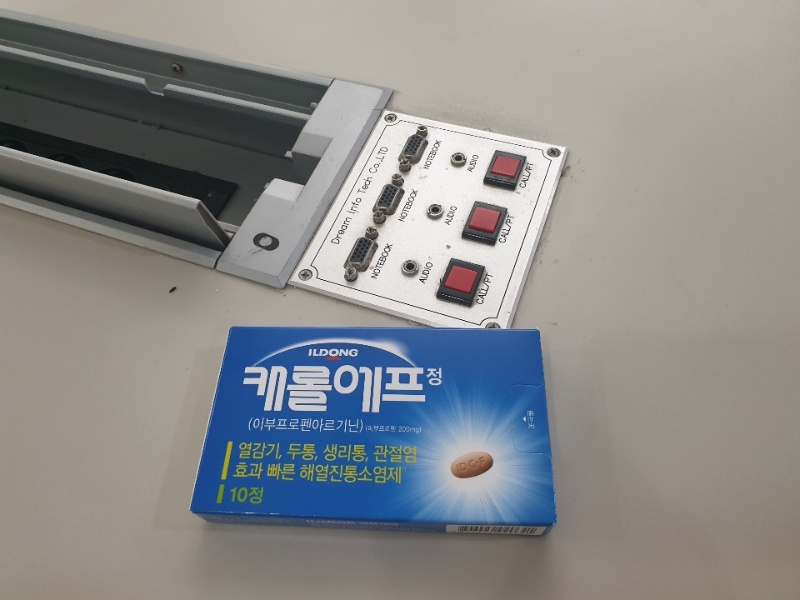carolF: (189, 327, 557, 539)
